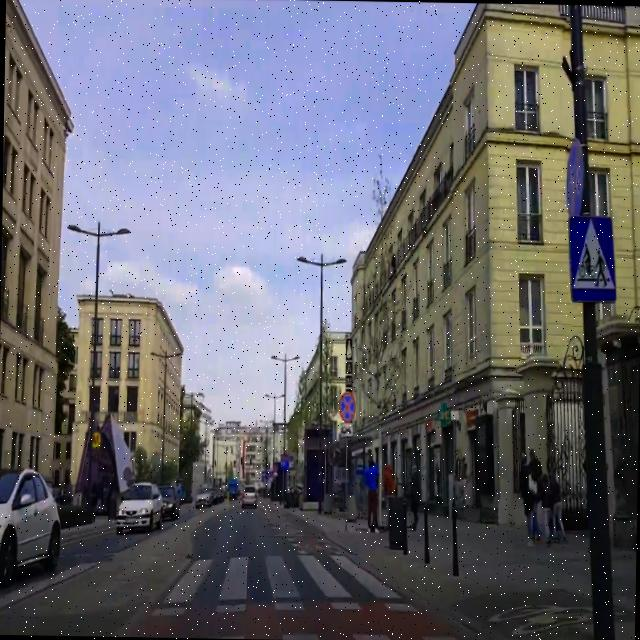Zakaz zatrzymywania sie: (338, 391, 356, 423)
